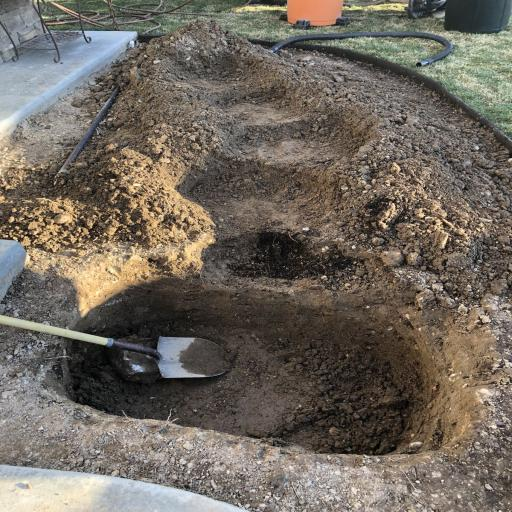construction_fence: (49, 278, 463, 460), (200, 227, 356, 283)
